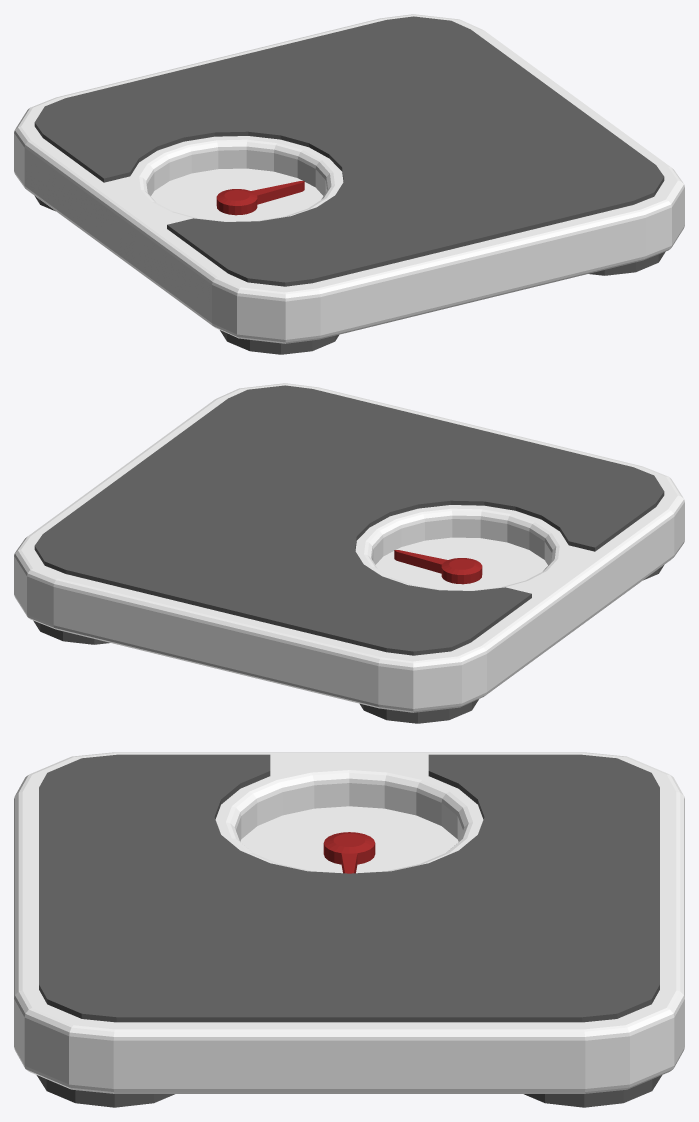
Rendered from e7db1732-fffb-4d45-be77-d339af07c93c.glb.
3 renders of one model, top to bottom at view 1: azimuth 30°, elevation 25°; view 2: azimuth 150°, elevation 25°; view 3: azimuth 270°, elevation 25°, orthographic. The views are drawn at different scales.
Visible parts, largest first — view 1: Bathroom_Scale; view 2: Bathroom_Scale; view 3: Bathroom_Scale.
Boxes of the visible parts, bbox=[...] form: Bathroom_Scale: bbox=[14, 14, 684, 354]; Bathroom_Scale: bbox=[14, 383, 684, 723]; Bathroom_Scale: bbox=[14, 752, 684, 1107].
Size of the model in its own units: 38.05 by 5.59 by 38.05.
1 material, 1 textured.
